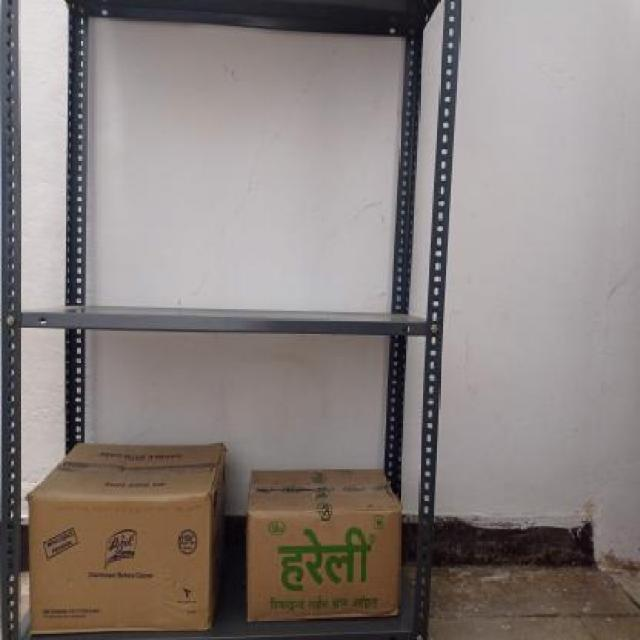box: (32, 492, 211, 632), (244, 508, 402, 626)
